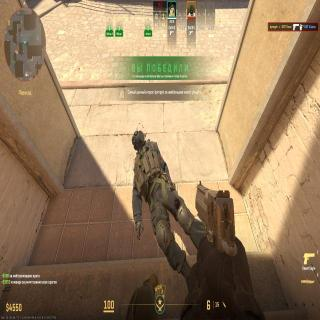CT-Body: (130, 128, 192, 272)
CT-Head: (131, 130, 145, 150)
